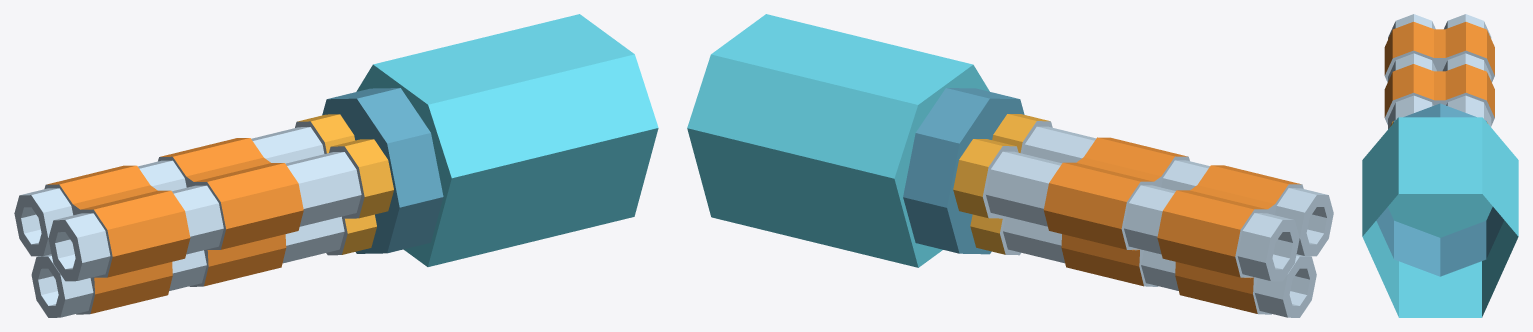
Rendered from 05_lowFire_v01.fbx.
The picture shows the model from 3 angles, left to right: view 1: azimuth 30°, elevation 25°; view 2: azimuth 150°, elevation 25°; view 3: azimuth 270°, elevation 25°; orthographic projection. The views are drawn at different scales.
Parts seen in each view (by area): view 1: Cube.004, rings.001, rotation; view 2: Cube.004, rings.001, rotation; view 3: Cube.004, rings.001, rotation.
Part boxes in pixels (<box>): Cube.004: <box>14,14,658,317</box>; rings.001: <box>44,138,303,314</box>; rotation: <box>322,88,443,253</box>; Cube.004: <box>687,14,1333,317</box>; rings.001: <box>1043,137,1303,314</box>; rotation: <box>903,88,1024,254</box>; Cube.004: <box>1362,14,1518,317</box>; rings.001: <box>1384,21,1494,125</box>; rotation: <box>1376,103,1504,276</box>.
Size of the model in its own units: 129 by 35.8 by 40.87.
